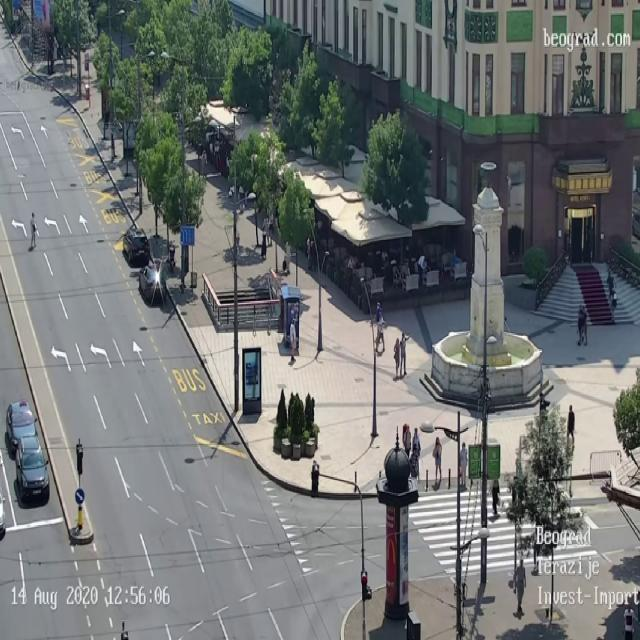car: (16, 435, 48, 506), (6, 404, 36, 458), (139, 260, 165, 302), (125, 227, 150, 266), (623, 608, 635, 636)
